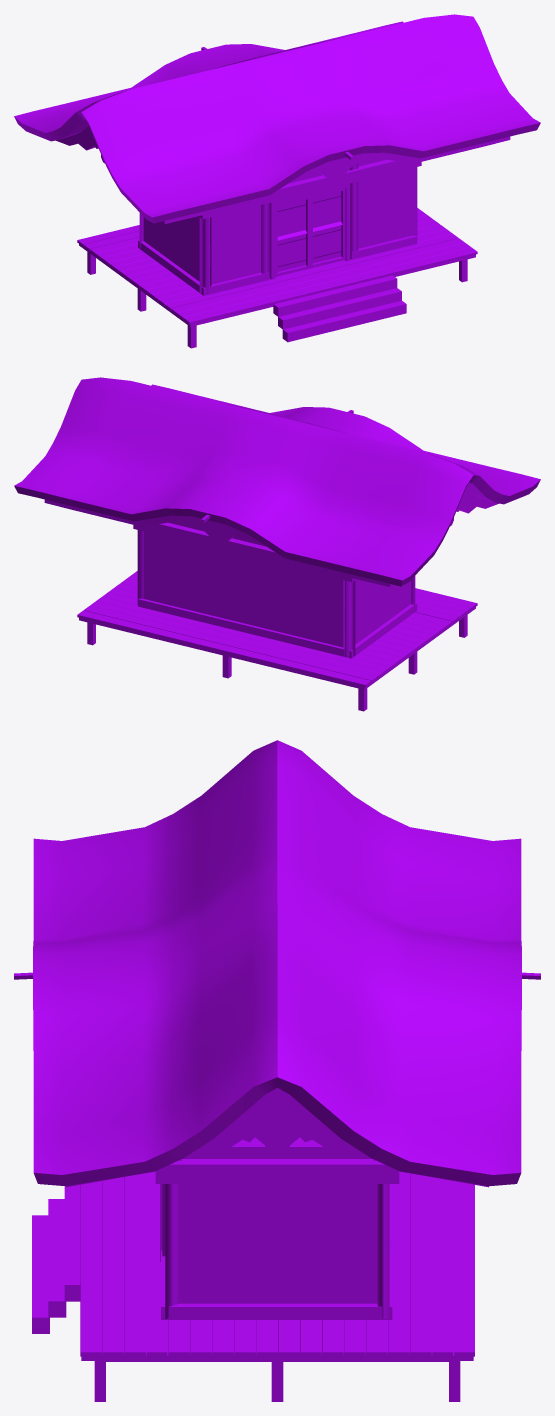
Rendered from petit_temple_LOD2.fbx.
3 renders of one model, top to bottom at view 1: azimuth 30°, elevation 25°; view 2: azimuth 150°, elevation 25°; view 3: azimuth 270°, elevation 25°, orthographic. The views are drawn at different scales.
Parts seen in each view (by area): view 1: petit_temple_LOD2; view 2: petit_temple_LOD2; view 3: petit_temple_LOD2.
Part boxes in pixels (<box>): petit_temple_LOD2: <box>14,14,540,348</box>; petit_temple_LOD2: <box>14,377,540,711</box>; petit_temple_LOD2: <box>14,740,540,1401</box>.
Bounding box in the file's own units: 29.83 × 16.24 × 19.71.
